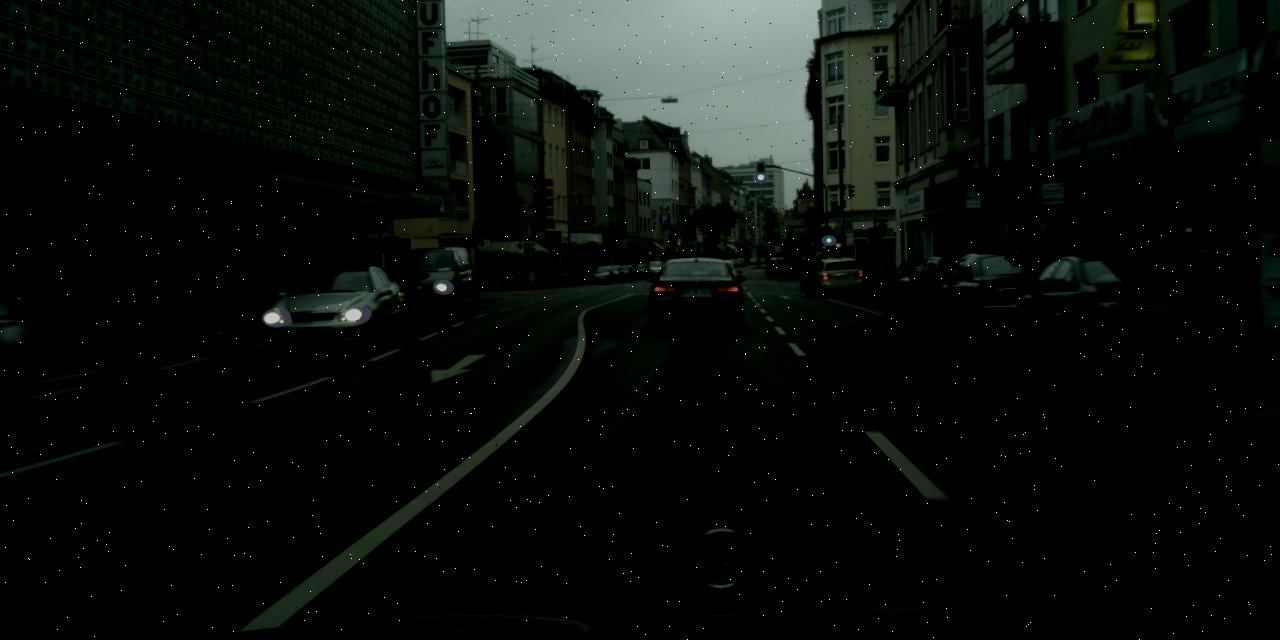ped: (801, 251, 820, 297), (864, 250, 879, 288), (881, 251, 895, 287), (812, 252, 824, 283), (838, 252, 848, 280), (862, 258, 871, 282)
